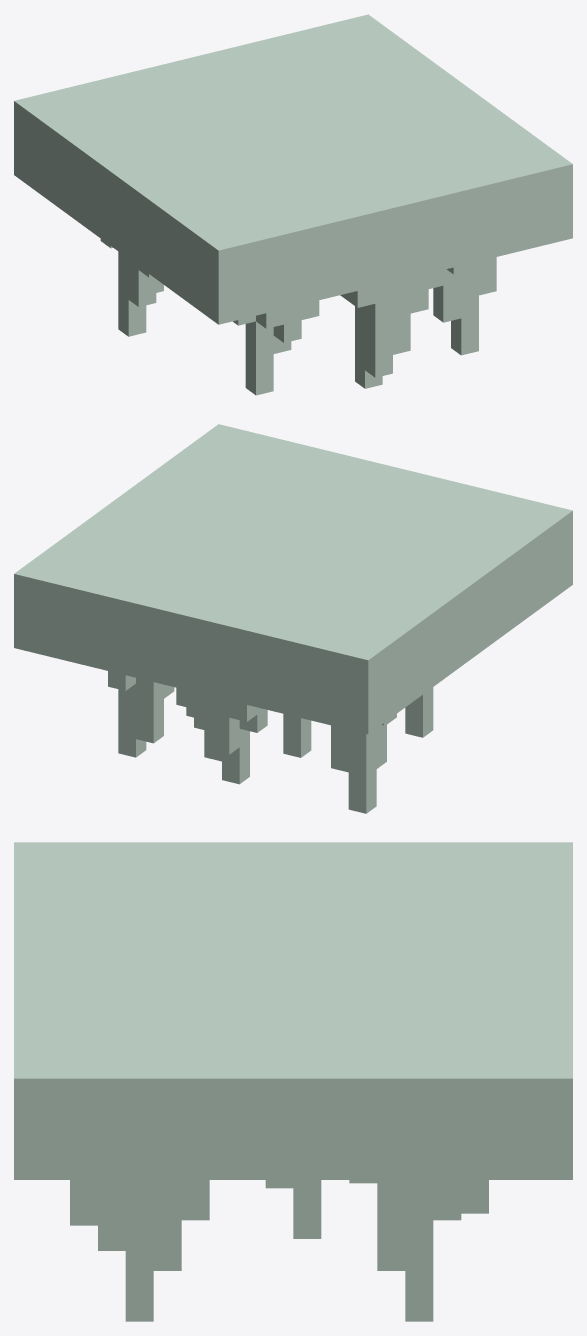
Rendered from Floors-7.obj.
3 renders of one model, top to bottom at view 1: azimuth 30°, elevation 25°; view 2: azimuth 150°, elevation 25°; view 3: azimuth 270°, elevation 25°, orthographic. The views are drawn at different scales.
Bounding box in the file's own units: 2 × 1.1 × 2.
1 material, 1 textured.
